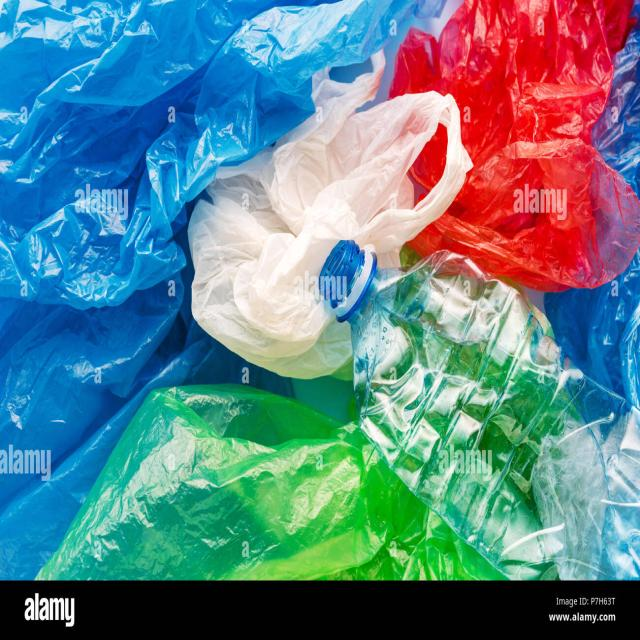Single-layer Plastic: (0, 0, 440, 309), (189, 51, 471, 377), (39, 384, 502, 580), (0, 273, 279, 578), (390, 0, 640, 292), (544, 248, 640, 409), (592, 0, 640, 199)
